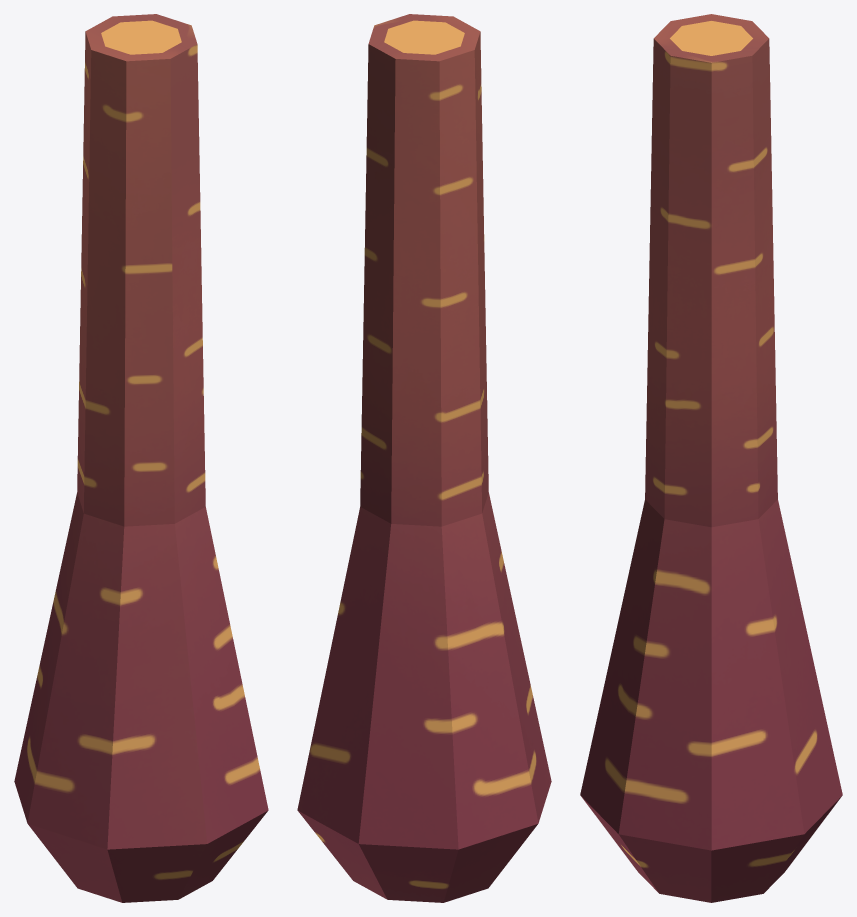
The model's file is palmito_cut.fbx.
3 views of the same model, side by side, from view 1: azimuth 30°, elevation 25°; view 2: azimuth 150°, elevation 25°; view 3: azimuth 270°, elevation 25° (orthographic).
Visible parts, largest first — view 1: Cylinder.012; view 2: Cylinder.012; view 3: Cylinder.012.
Boxes of the visible parts, bbox=[...] form: Cylinder.012: bbox=[14, 14, 268, 902]; Cylinder.012: bbox=[297, 14, 551, 902]; Cylinder.012: bbox=[580, 14, 842, 902].
Size of the model in its own units: 73.88 by 259 by 73.88.
